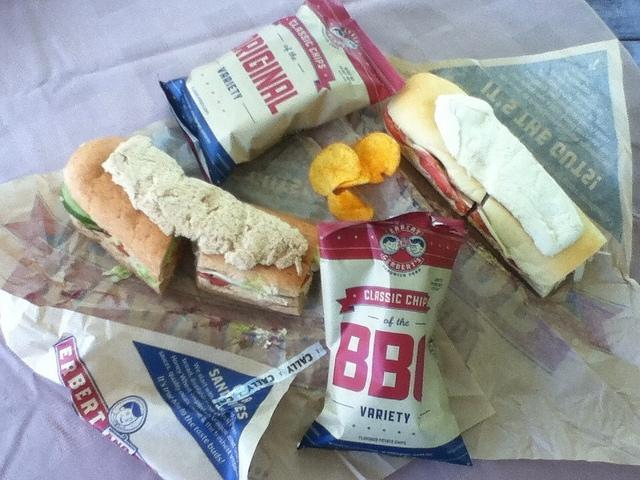cucumber: (60, 184, 98, 226), (82, 222, 104, 232)
tomato: (418, 156, 471, 214), (383, 105, 408, 145), (469, 205, 496, 240), (196, 272, 230, 286), (117, 244, 130, 256)
